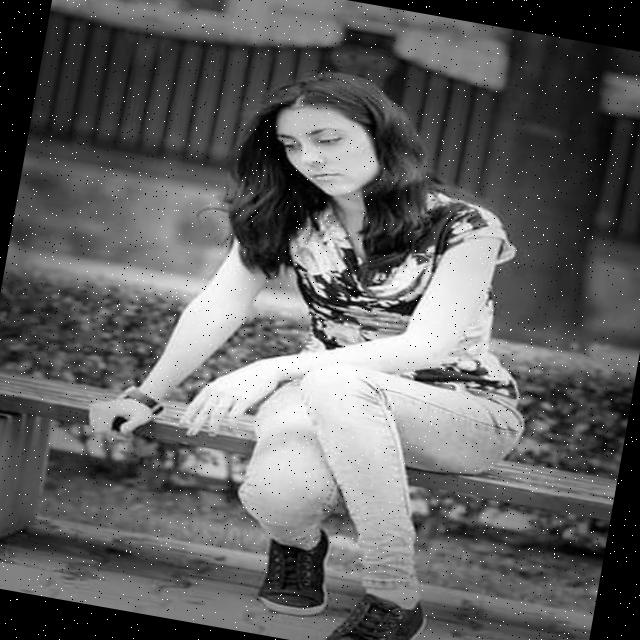Sadness: (264, 95, 386, 204)
